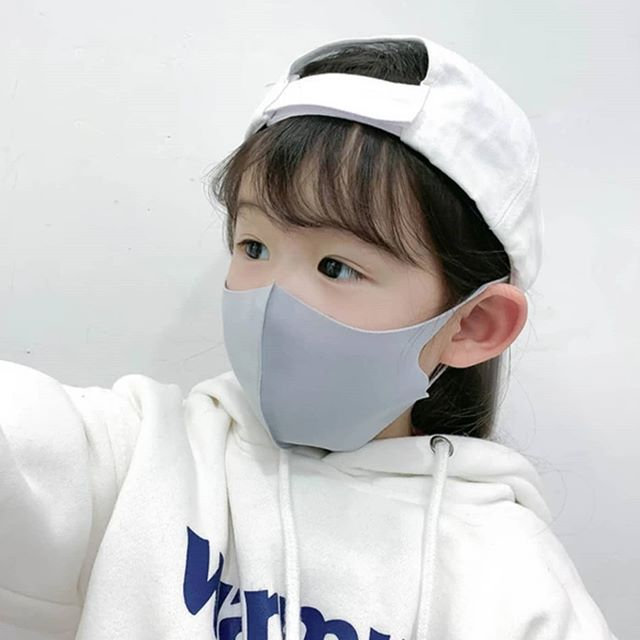homemade: (202, 277, 458, 454)
